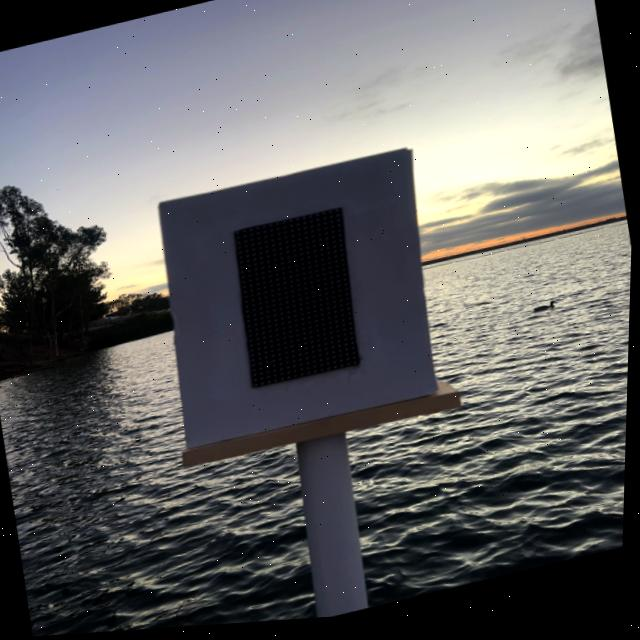led: (182, 173, 408, 437)
